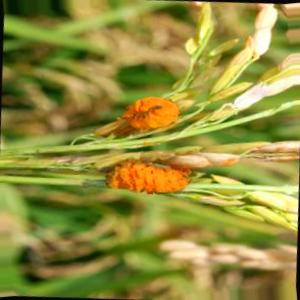Leaf_Scald: (106, 161, 193, 192), (121, 96, 182, 138)
